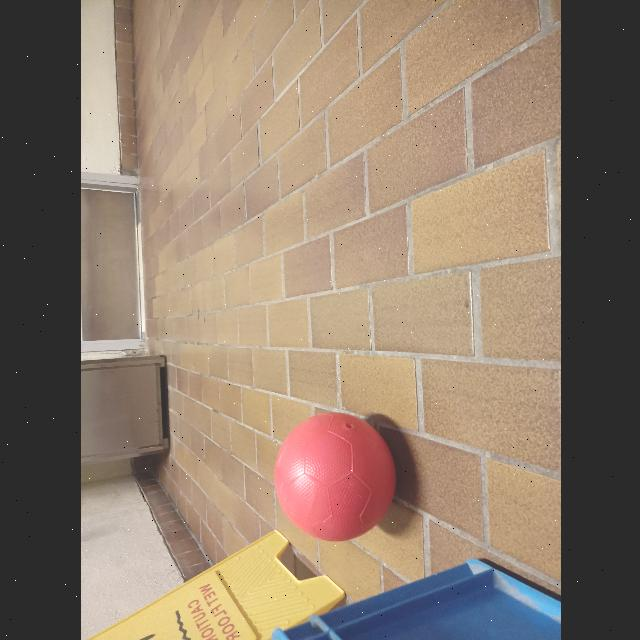R: (271, 414, 395, 540)
